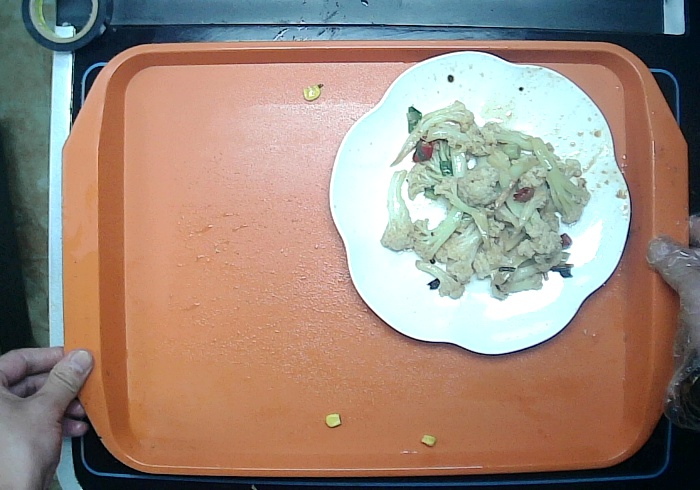HZYJPL-Bai_Se_Hua_Duo_Wan: (319, 36, 650, 380)
